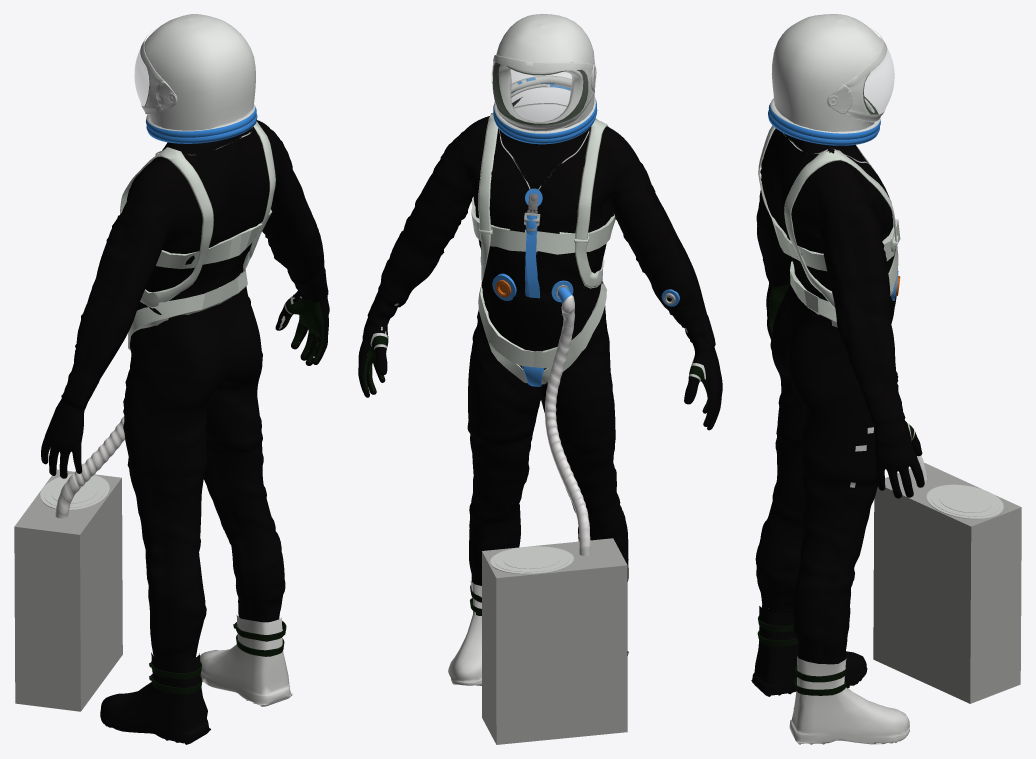
Rendered from space-gemini-spacesuit.glb.
The picture shows the model from 3 angles, left to right: view 1: azimuth 30°, elevation 25°; view 2: azimuth 150°, elevation 25°; view 3: azimuth 270°, elevation 25°; orthographic projection. The views are drawn at different scales.
Visible parts, largest first — view 1: GeminiSuit:polySurface1; view 2: GeminiSuit:polySurface1; view 3: GeminiSuit:polySurface1.
Boxes of the visible parts, x1,y1,x2,y2 form: GeminiSuit:polySurface1: [14, 14, 329, 744]; GeminiSuit:polySurface1: [358, 14, 722, 744]; GeminiSuit:polySurface1: [751, 14, 1021, 744].
Bounding box in the file's own units: 0.995 × 2 × 0.7096.
6 materials, 6 textured.
